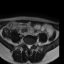CCS_normal: (28, 42, 30, 50)
LFS_normal: (32, 42, 33, 46)
LLS_normal: (30, 42, 31, 49)
RFS_normal: (25, 41, 27, 47)
RLS_normal: (27, 42, 28, 49)
